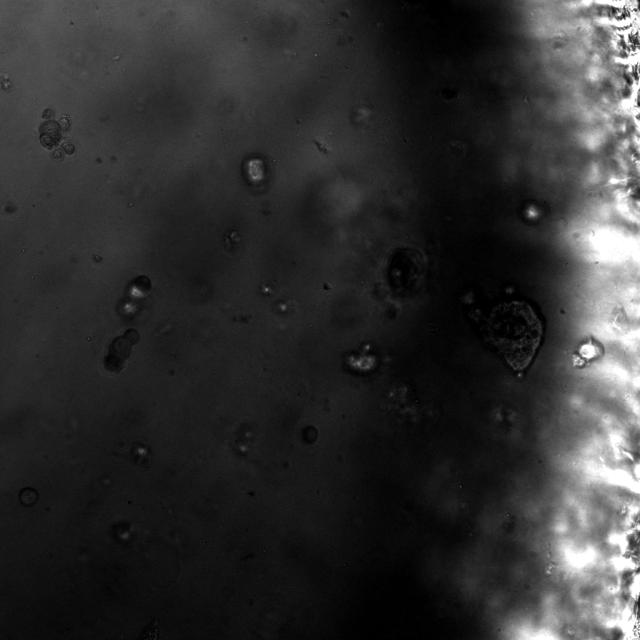organoid: (461, 290, 544, 374), (381, 247, 431, 297), (38, 108, 76, 159), (116, 275, 152, 320), (103, 328, 139, 372), (384, 381, 418, 422), (342, 341, 380, 376), (241, 153, 270, 192), (572, 336, 604, 368), (231, 423, 255, 456), (223, 229, 242, 254), (18, 487, 38, 507), (301, 425, 318, 443)
